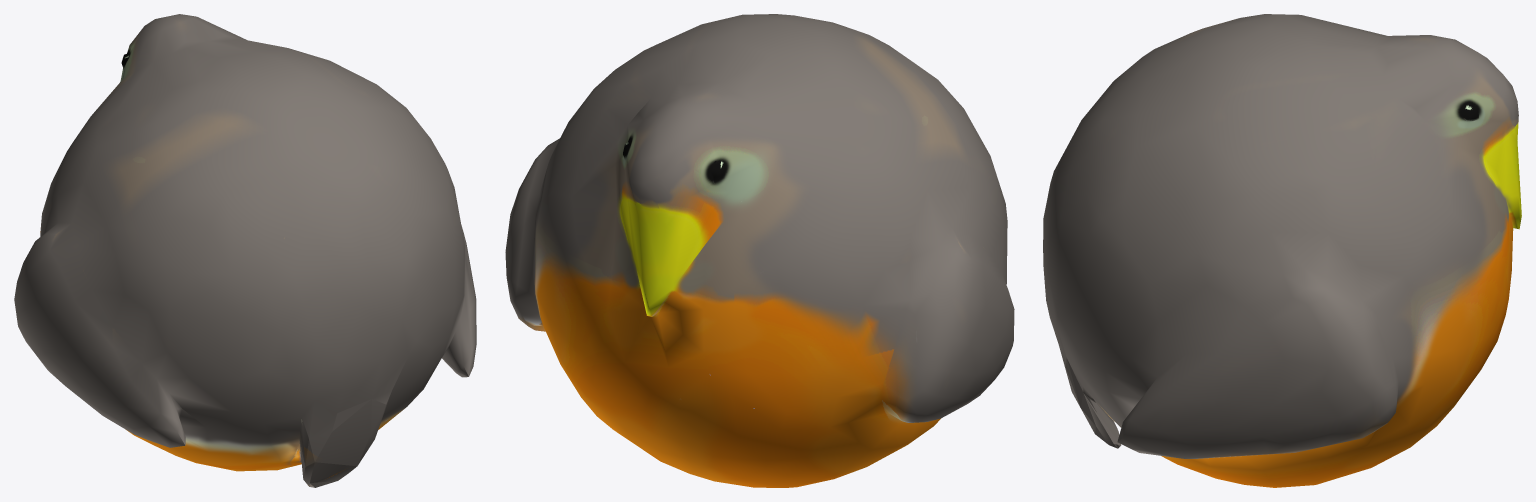
Rendered from Birdamari.fbx.
3 views of the same model, side by side, from view 1: azimuth 30°, elevation 25°; view 2: azimuth 150°, elevation 25°; view 3: azimuth 270°, elevation 25° (orthographic). The views are drawn at different scales.
Parts seen in each view (by area): view 1: Birdamari; view 2: Birdamari; view 3: Birdamari.
Boxes of the visible parts, left/top/right/bottom form: Birdamari: left=14, top=14, right=476, bottom=487; Birdamari: left=505, top=14, right=1014, bottom=487; Birdamari: left=1043, top=14, right=1521, bottom=487.
Bounding box in the file's own units: 110 × 99.7 × 100.
Materials: 1 (1 with a texture image).
